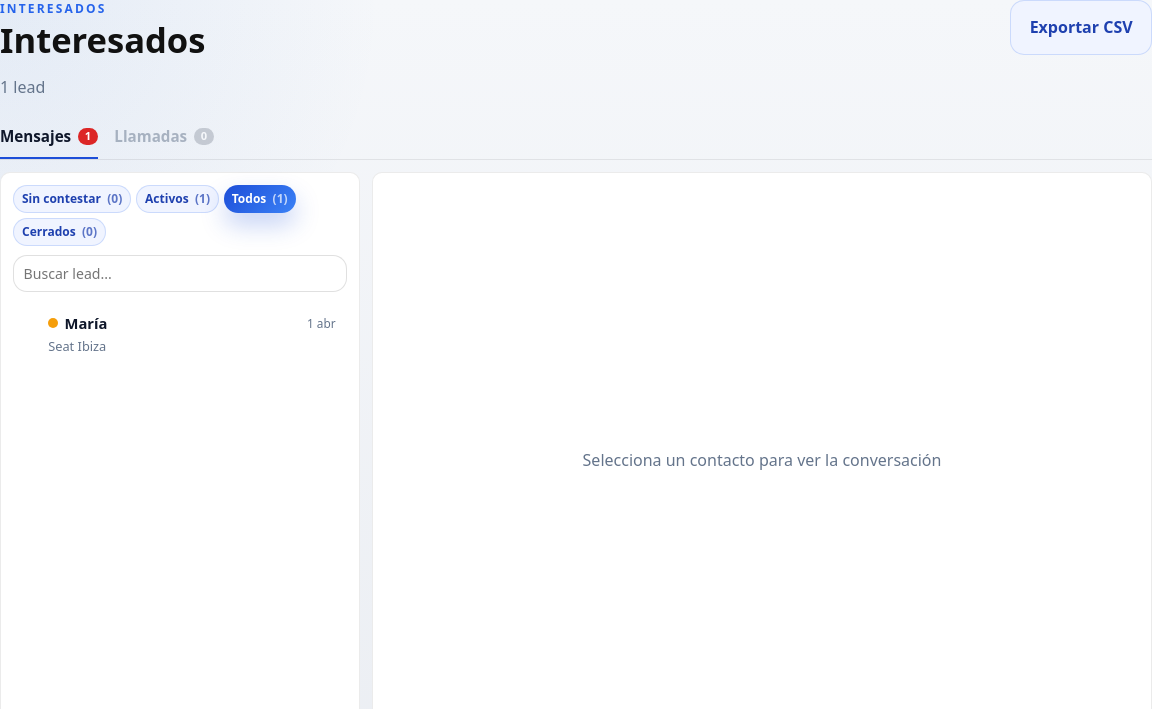
it: LeadsList — notas › shows existing notes in panel
The image size is (1152, 709).
Click the text "María". click: (78, 323)
box: [48,312,107,334]
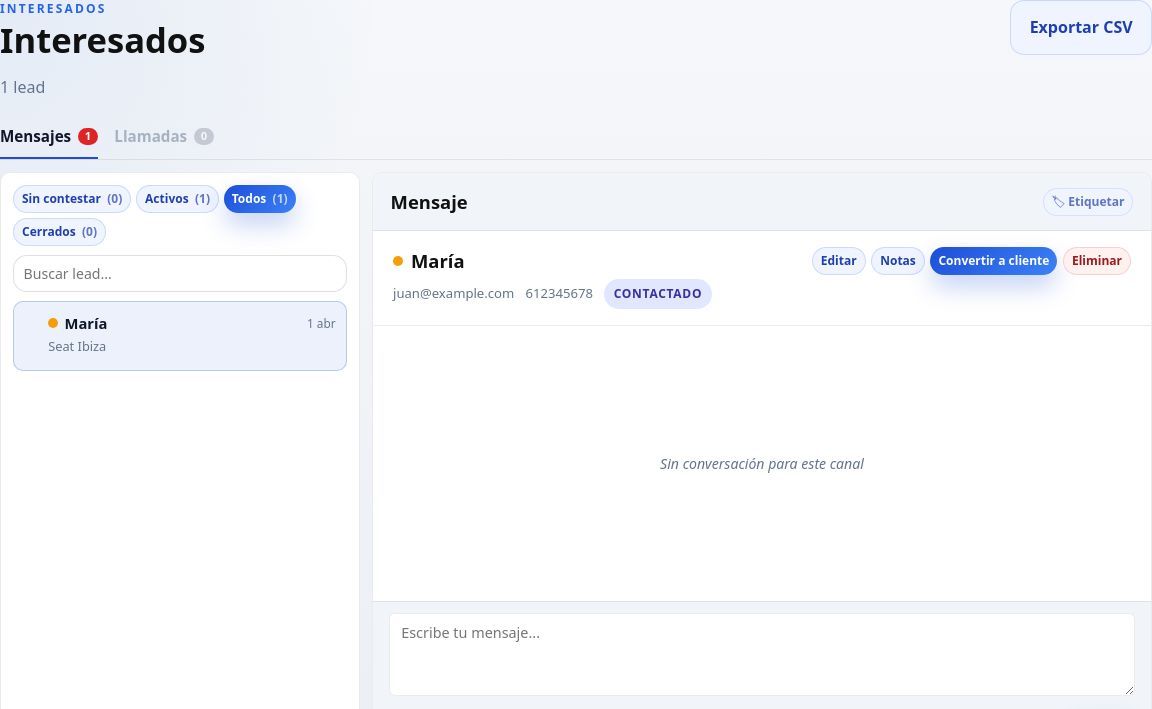
Click the button "Notas". click: (898, 261)
box: [871,247,925,275]
(page scrolled)
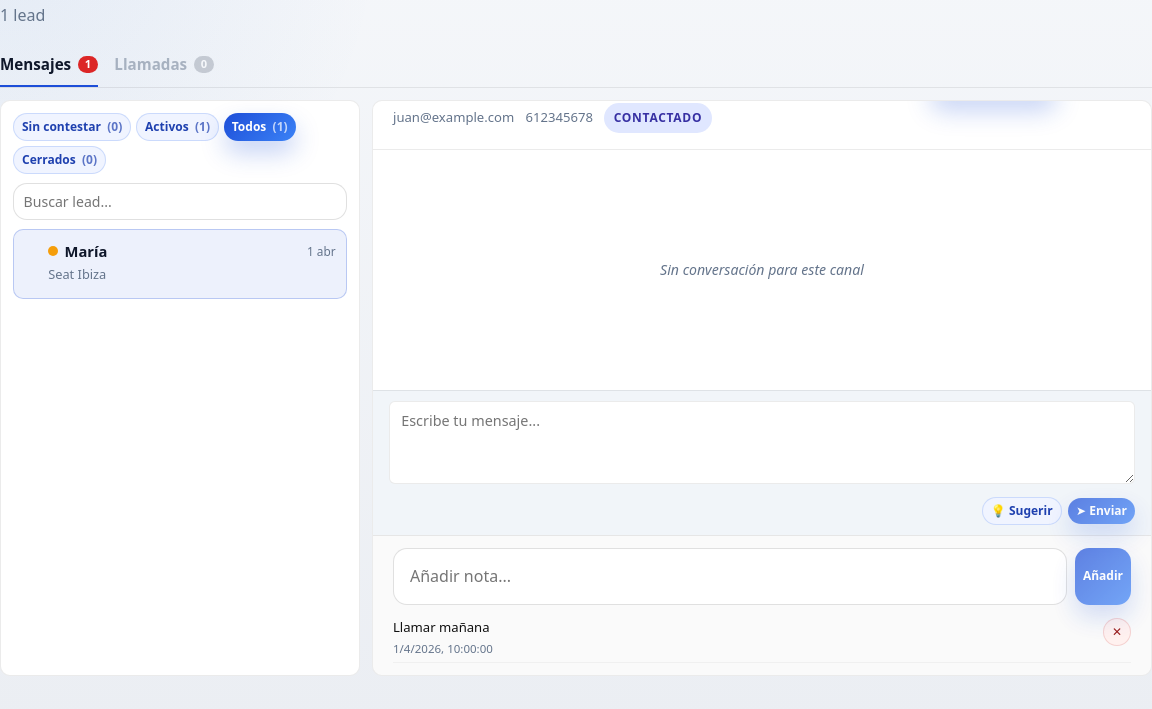
Now the text "Llamar mañana" is shown, box [393,618,493,638]
